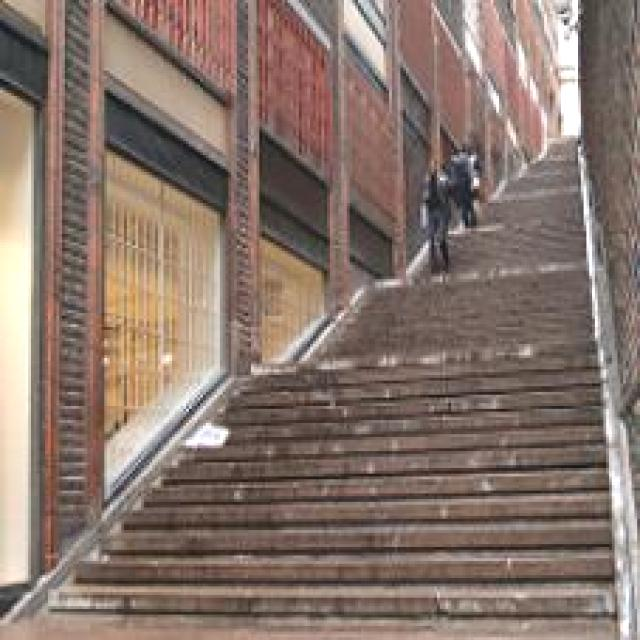stair: (43, 269, 619, 623)
